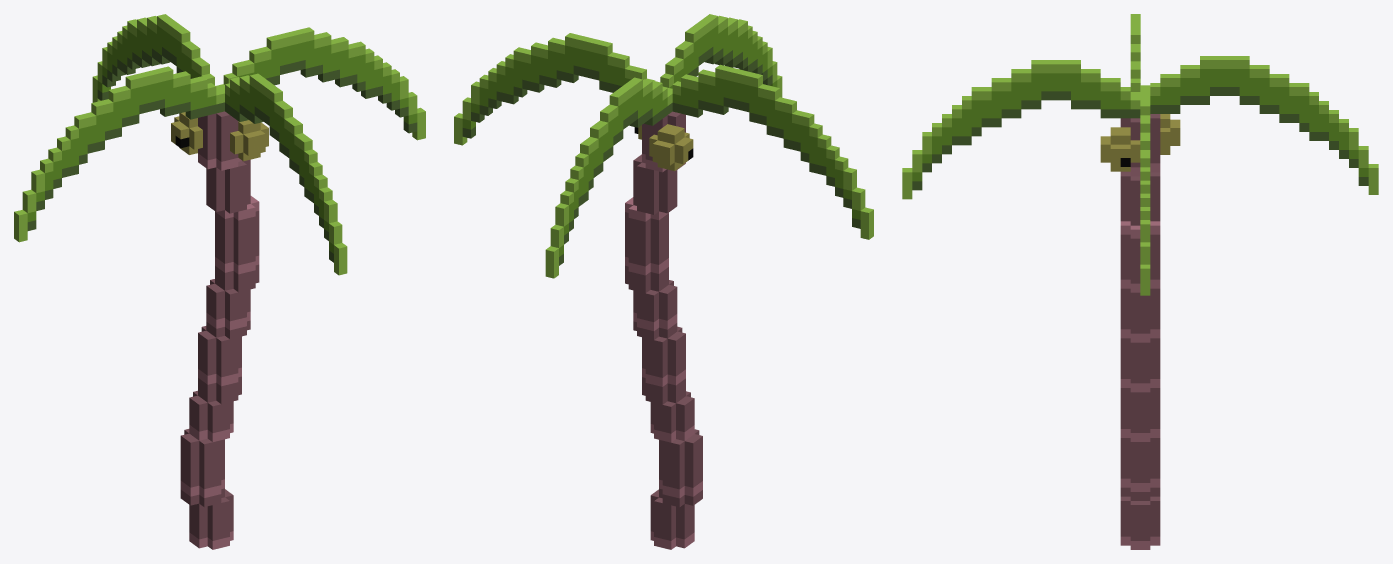
File: Palm 2.obj
The picture shows the model from 3 angles, left to right: view 1: azimuth 30°, elevation 25°; view 2: azimuth 150°, elevation 25°; view 3: azimuth 270°, elevation 25°; orthographic projection.
Visible parts, largest first — view 1: Palm 2; view 2: Palm 2; view 3: Palm 2.
Boxes of the visible parts, <box> form: Palm 2: <box>14,14,425,549</box>; Palm 2: <box>454,14,873,549</box>; Palm 2: <box>902,14,1378,549</box>.
Bounding box in the file's own units: 48 × 54 × 48.
Materials: 1 (1 with a texture image).
